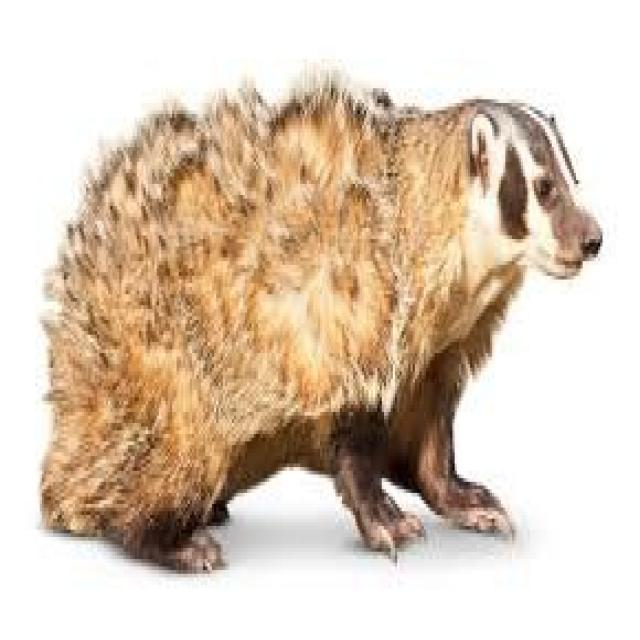Badger: (35, 68, 602, 582)
